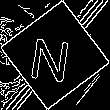N_N: (31, 27, 79, 83)
